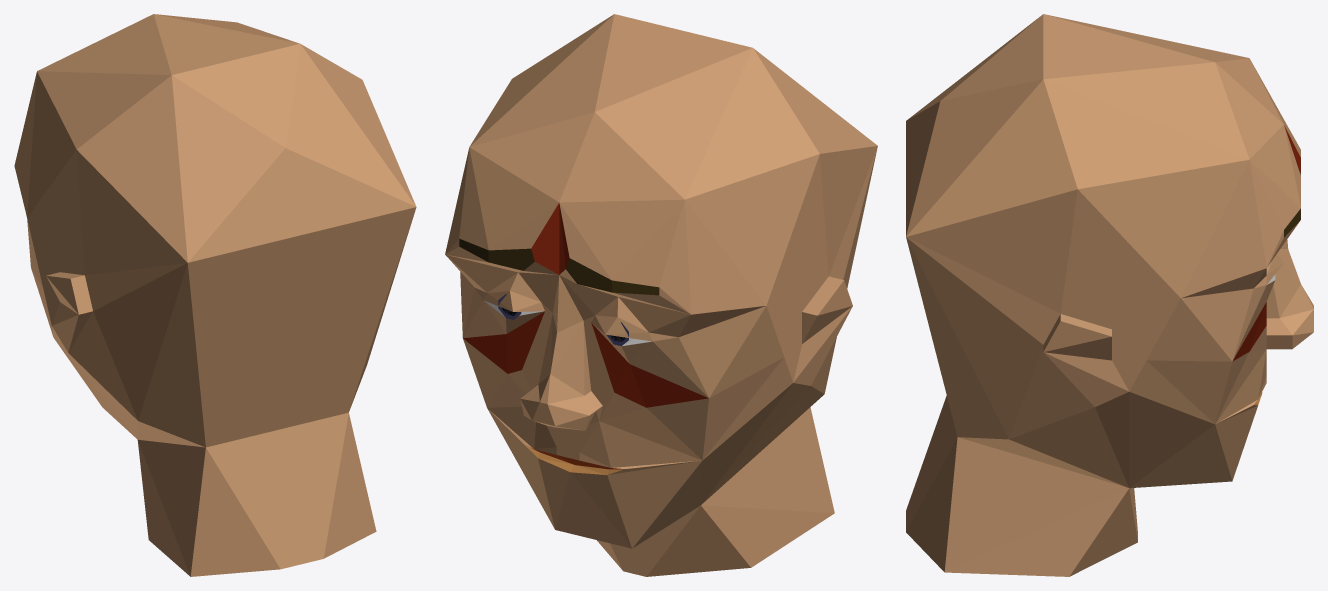
Rendered from npc_chat_tribal_weapon_salesman_0.obj.
3 renders of one model, left to right at view 1: azimuth 30°, elevation 25°; view 2: azimuth 150°, elevation 25°; view 3: azimuth 270°, elevation 25°, orthographic. The views are drawn at different scales.
Bounding box in the file's own units: 0.6875 × 0.9844 × 0.7422.
